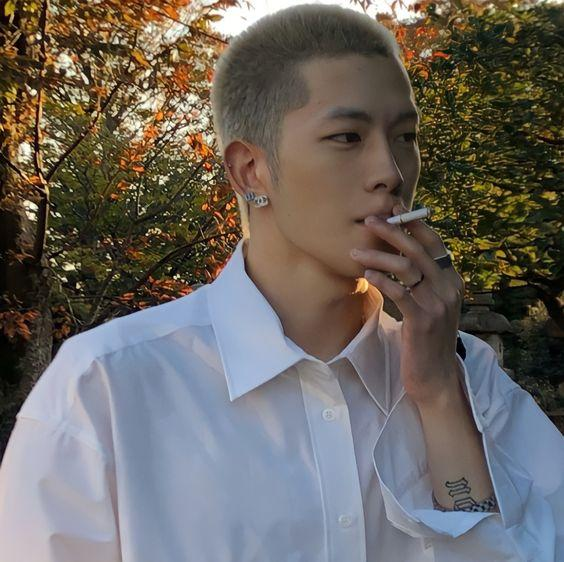cigarette: (385, 207, 433, 226)
